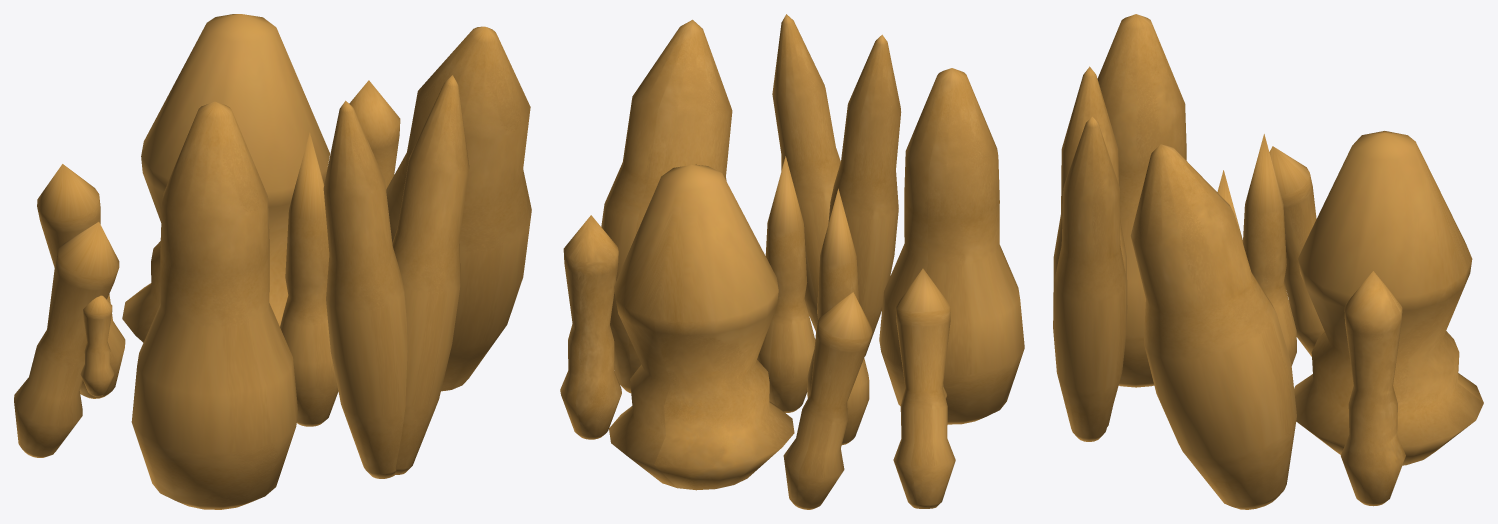
File: stagbox.fbx
3 views of the same model, side by side, from view 1: azimuth 30°, elevation 25°; view 2: azimuth 150°, elevation 25°; view 3: azimuth 270°, elevation 25° (orthographic). The views are drawn at different scales.
Visible parts, largest first — view 1: stallagmite; view 2: stallagmite; view 3: stallagmite.
Boxes of the visible parts, bbox=[...] form: stallagmite: bbox=[14, 14, 531, 509]; stallagmite: bbox=[560, 14, 1024, 509]; stallagmite: bbox=[1053, 14, 1483, 509].
Size of the model in its own units: 1.99 by 1.75 by 1.82.
